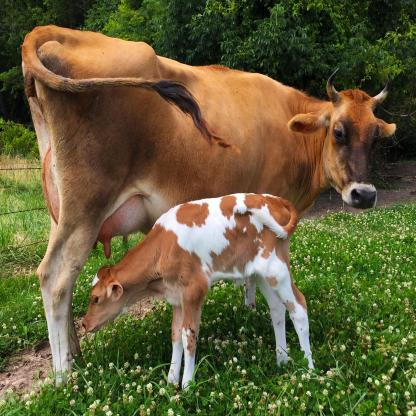cow: (21, 26, 397, 390), (84, 195, 310, 392)
